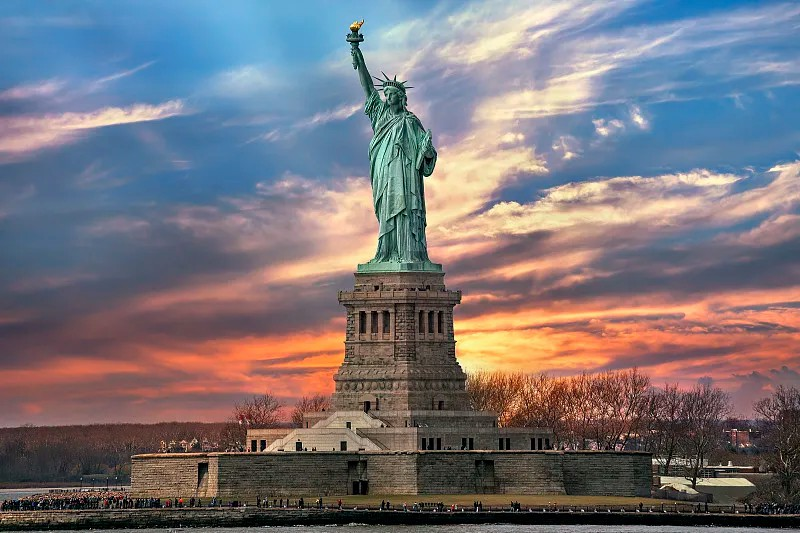SL: (329, 18, 470, 412)
